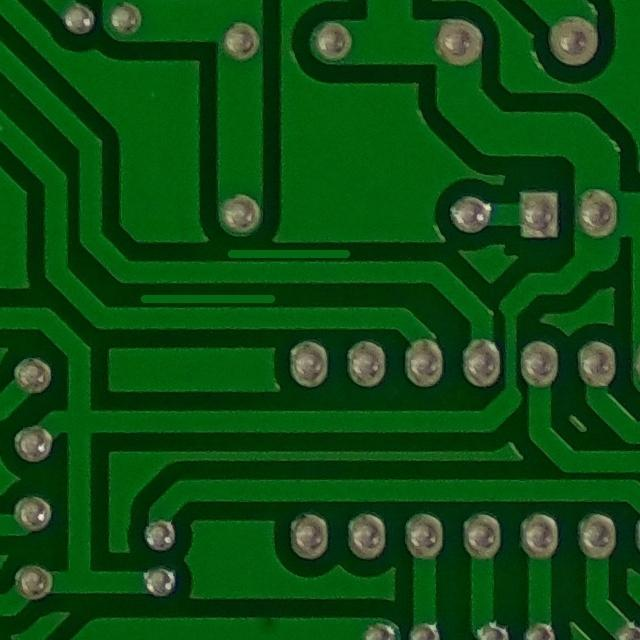spurious_copper: (215, 229, 363, 269), (135, 283, 282, 319)
